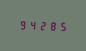eight: (48, 20, 57, 31)
five: (58, 20, 67, 31)
four: (28, 19, 37, 30)
nine: (18, 19, 27, 30)
two: (38, 19, 47, 31)
